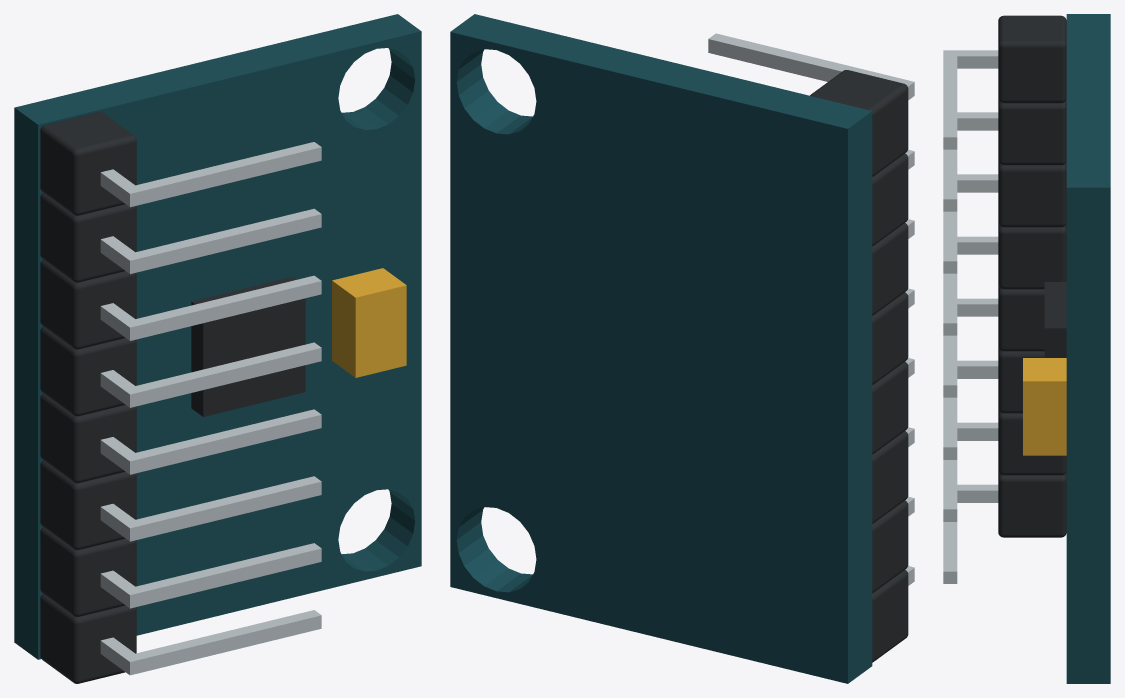
Rendered from mpu6050.obj.
The picture shows the model from 3 angles, left to right: view 1: azimuth 30°, elevation 25°; view 2: azimuth 150°, elevation 25°; view 3: azimuth 270°, elevation 25°; orthographic projection. The views are drawn at different scales.
Visible parts, largest first — view 1: group_0_1855578, group_0_2829873, group_0_12568524, group_0_14789940; view 2: group_0_1855578, group_0_2829873, group_0_12568524; view 3: group_0_2829873, group_0_1855578, group_0_12568524, group_0_14789940.
Part boxes in pixels (x1,y1,x2,y2): group_0_1855578: (14,14,421,659); group_0_2829873: (40,112,305,683); group_0_12568524: (100,142,321,675); group_0_14789940: (332,268,406,377); group_0_1855578: (450,14,872,683); group_0_2829873: (810,70,908,662); group_0_12568524: (708,33,914,585); group_0_2829873: (998,15,1066,537); group_0_1855578: (1066,14,1110,683); group_0_12568524: (943,50,998,583); group_0_14789940: (1023,358,1066,455).
Size of the model in its own units: 15 by 20 by 6.1.
